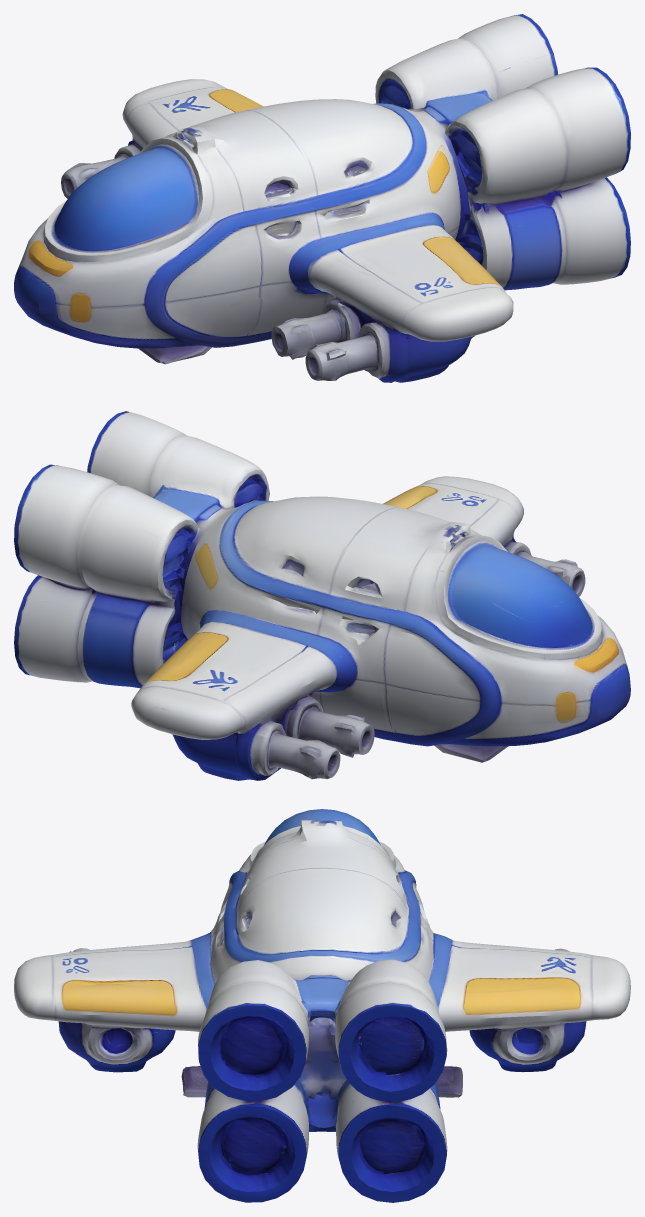
File: Meshy_AI_Azure_Voyager_0630111929_texture.glb
The picture shows the model from 3 angles, top to bottom: view 1: azimuth 30°, elevation 25°; view 2: azimuth 150°, elevation 25°; view 3: azimuth 270°, elevation 25°; orthographic projection. The views are drawn at different scales.
Size of the model in its own units: 1.9 by 0.7176 by 1.91.
Materials: 1 (1 with a texture image).
